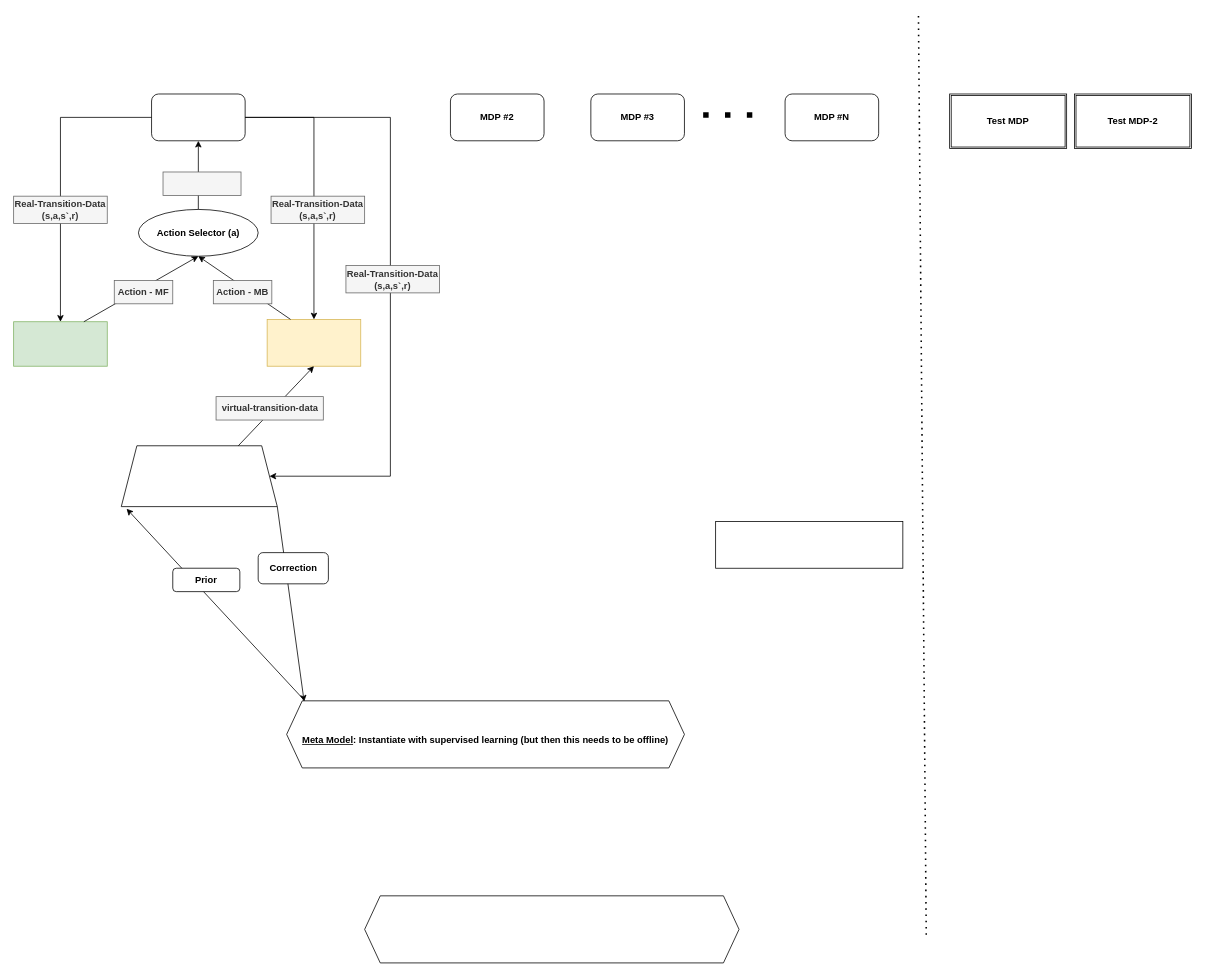
This 1205x977 diagram has some shape labels left out. The centre of each missing label's shape, as x and y in pixels:
Action - MBMF: point 201,183
Dynamics + Reward Model: point 199,476
MDP#1: point 198,117
Meta Actor: point 809,544
Meta Model copy for fine-tuning to test: point 551,929
Model-Based Actor (could be AC too): point 313,342
Model-Free Actor (could be AC too): point 60,343
